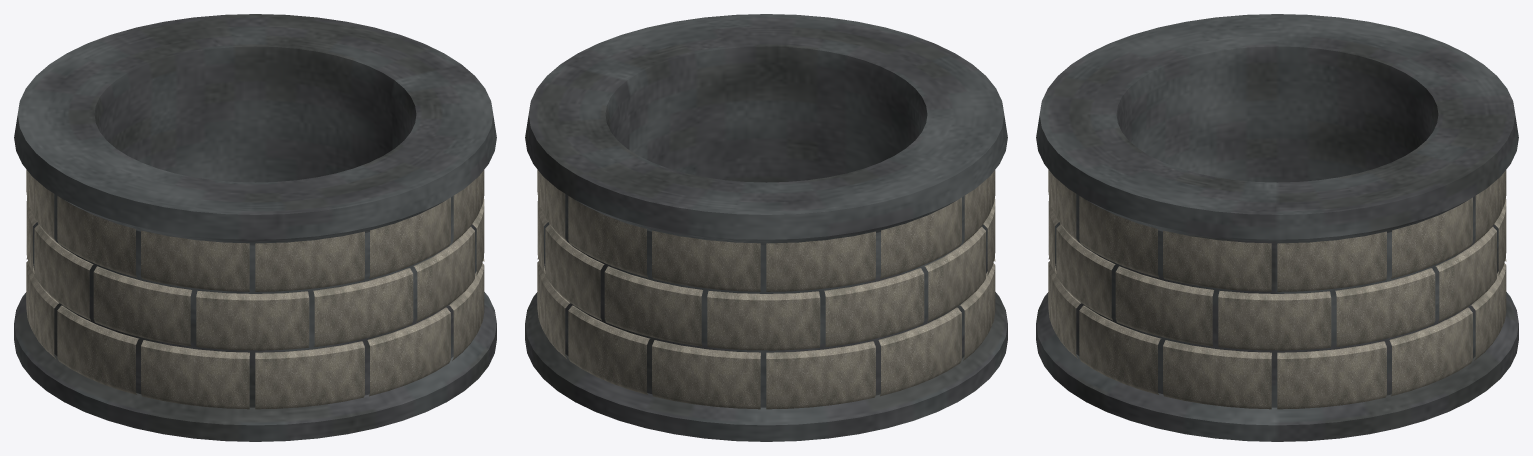
The model's file is well-basin.glb.
3 renders of one model, left to right at view 1: azimuth 30°, elevation 25°; view 2: azimuth 150°, elevation 25°; view 3: azimuth 270°, elevation 25°, orthographic.
Parts seen in each view (by area): view 1: well-basin; view 2: well-basin; view 3: well-basin.
Boxes of the visible parts, bbox=[...] form: well-basin: bbox=[14, 14, 496, 441]; well-basin: bbox=[525, 14, 1007, 441]; well-basin: bbox=[1036, 14, 1518, 441].
Bounding box in the file's own units: 1.32 × 0.68 × 1.32.
Materials: 3 (3 with a texture image).
